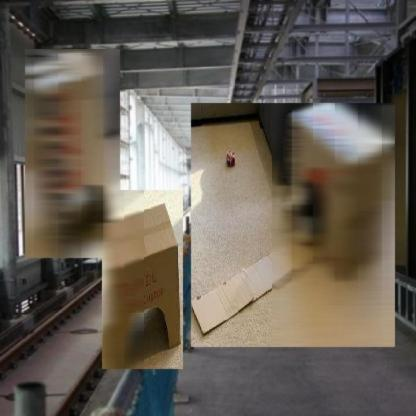-: (188, 100, 399, 352), (24, 47, 122, 262), (101, 188, 186, 372)
